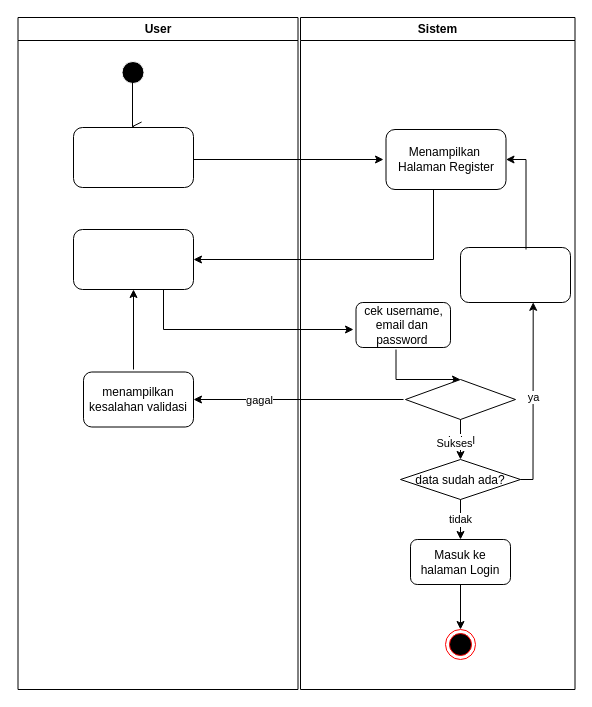
This 592x707 diagram has some shape labels left out. Each missing label, with the box of its shape:
Input username, email dan password: (72, 228, 194, 290)
Masuk Halaman Register: (72, 126, 194, 188)
menampilkan kesalahan: (460, 246, 570, 302)
validasi: (404, 378, 516, 420)
